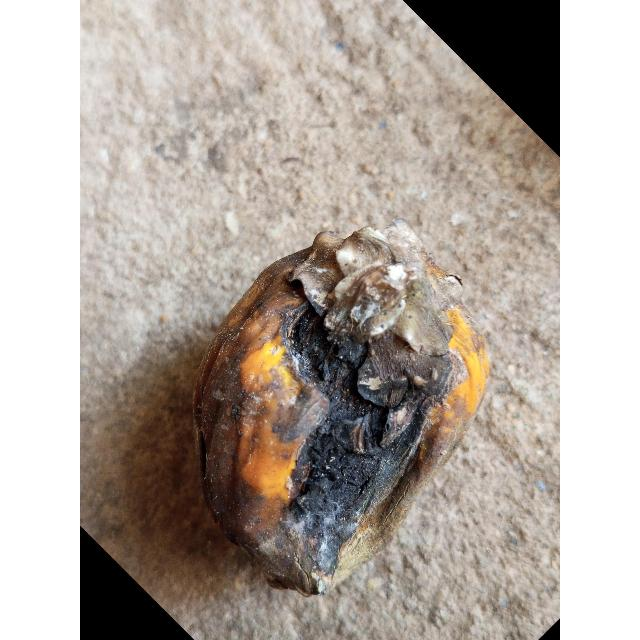damaged: (193, 222, 491, 597)
